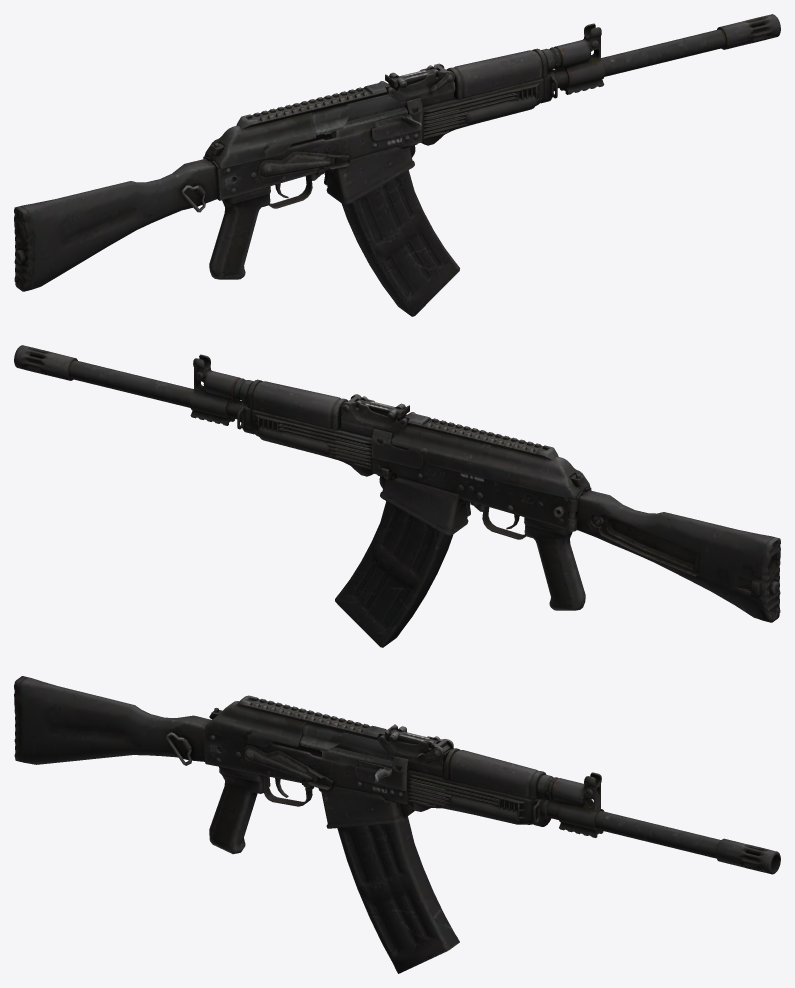
The model's file is gun-saiga12.glb.
3 views of the same model, one above another, from view 1: azimuth 30°, elevation 25°; view 2: azimuth 150°, elevation 25°; view 3: azimuth 330°, elevation 25° (orthographic).
Visible parts, largest first — view 1: Body, Mag, Reciever; view 2: Body, Mag; view 3: Body, Mag, Reciever.
Part boxes in pixels (box(x1,y1,x2,y2)): Body: box(14, 14, 780, 291); Mag: box(342, 148, 459, 316); Reciever: box(324, 81, 455, 138); Body: box(14, 345, 780, 622); Mag: box(335, 479, 452, 647); Body: box(14, 676, 780, 874); Mag: box(337, 800, 459, 973); Reciever: box(320, 732, 444, 782).
Bounding box in the file's own units: 18.88 × 5.71 × 1.47.
3 materials, 3 textured.
